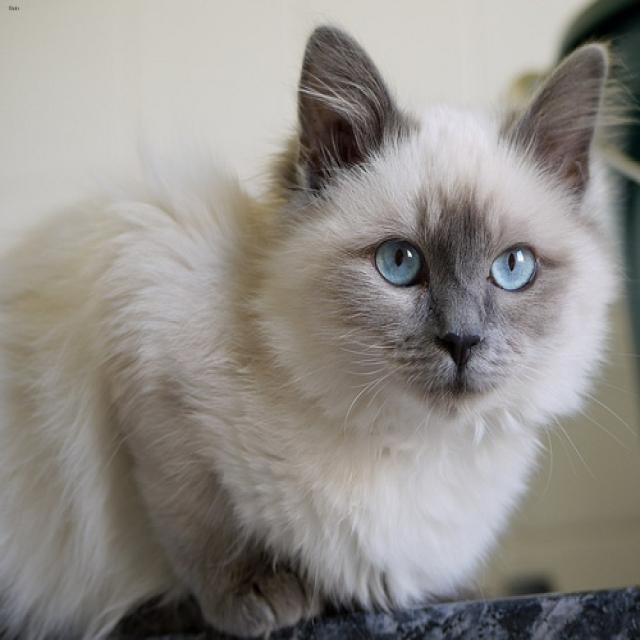cat: (298, 25, 608, 420)
